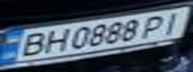0: (69, 24, 93, 51)
8: (118, 16, 145, 43), (90, 21, 112, 47), (106, 19, 127, 46)
B: (9, 29, 51, 58)
H: (39, 27, 72, 54)
I: (154, 9, 190, 36)
P: (136, 12, 172, 39)
